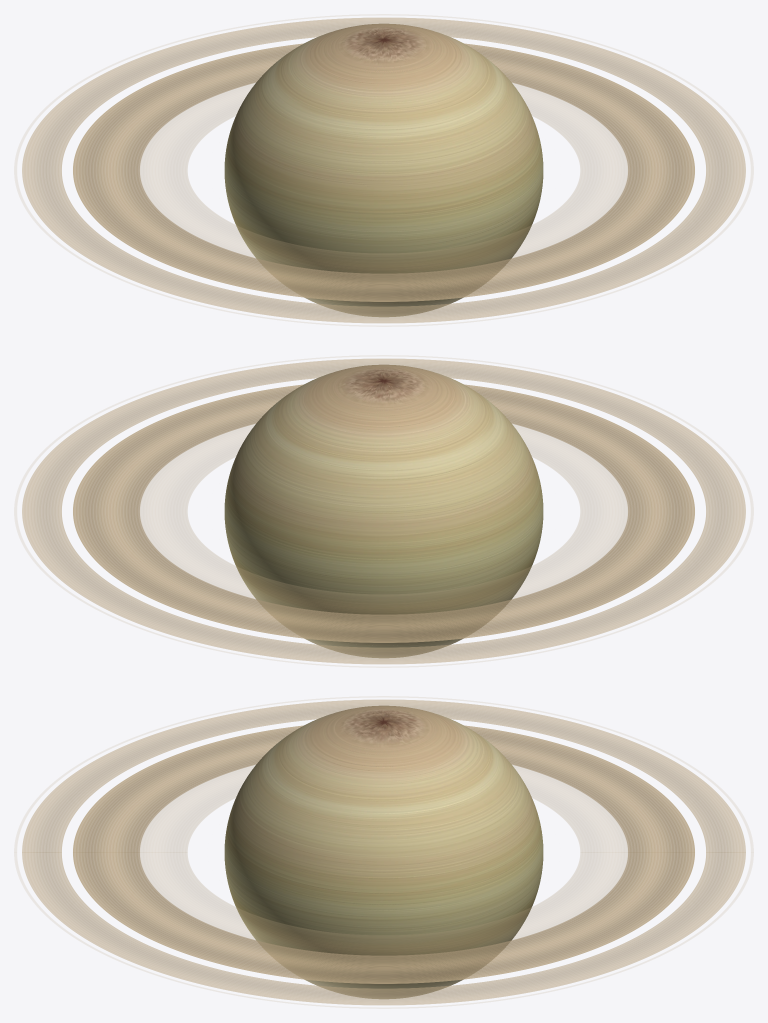
File: saturno-m.glb
3 renders of one model, top to bottom at view 1: azimuth 30°, elevation 25°; view 2: azimuth 150°, elevation 25°; view 3: azimuth 270°, elevation 25°, orthographic.
Visible parts, largest first — view 1: aneis, saturno; view 2: aneis, saturno; view 3: aneis, saturno.
Part boxes in pixels (box(x1,y1,x2,y2)): aneis: box(14, 14, 753, 326); saturno: box(224, 23, 543, 316); aneis: box(14, 355, 753, 667); saturno: box(224, 364, 543, 657); aneis: box(14, 696, 753, 1008); saturno: box(224, 705, 543, 998).
Bounding box in the file's own units: 4.64 × 1.8 × 4.64.
2 materials, 2 textured.
